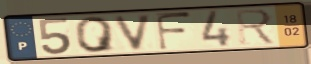4: (199, 9, 234, 49)
5: (38, 16, 74, 56)
F: (153, 11, 194, 52)
Q: (73, 15, 118, 54)
R: (233, 7, 279, 46)
V: (112, 12, 156, 52)
